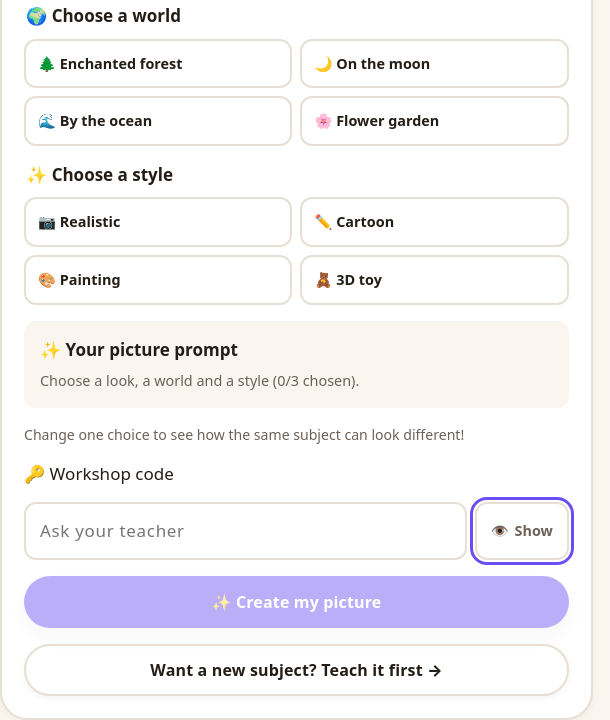
Let AI create › the workshop code field › is a real button, so it works from the keyboard and has a big enough target
(page scrolled)
Click the button with aria-label "Show the workshop code" at (522, 531), box [475,502,569,560]
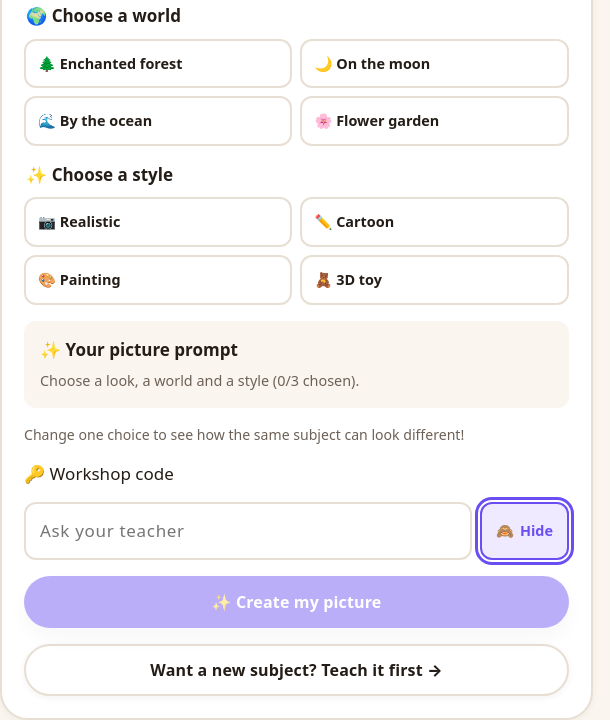
Check: the button with aria-label "Hide the workshop code" is shown, box [480,502,569,560]
